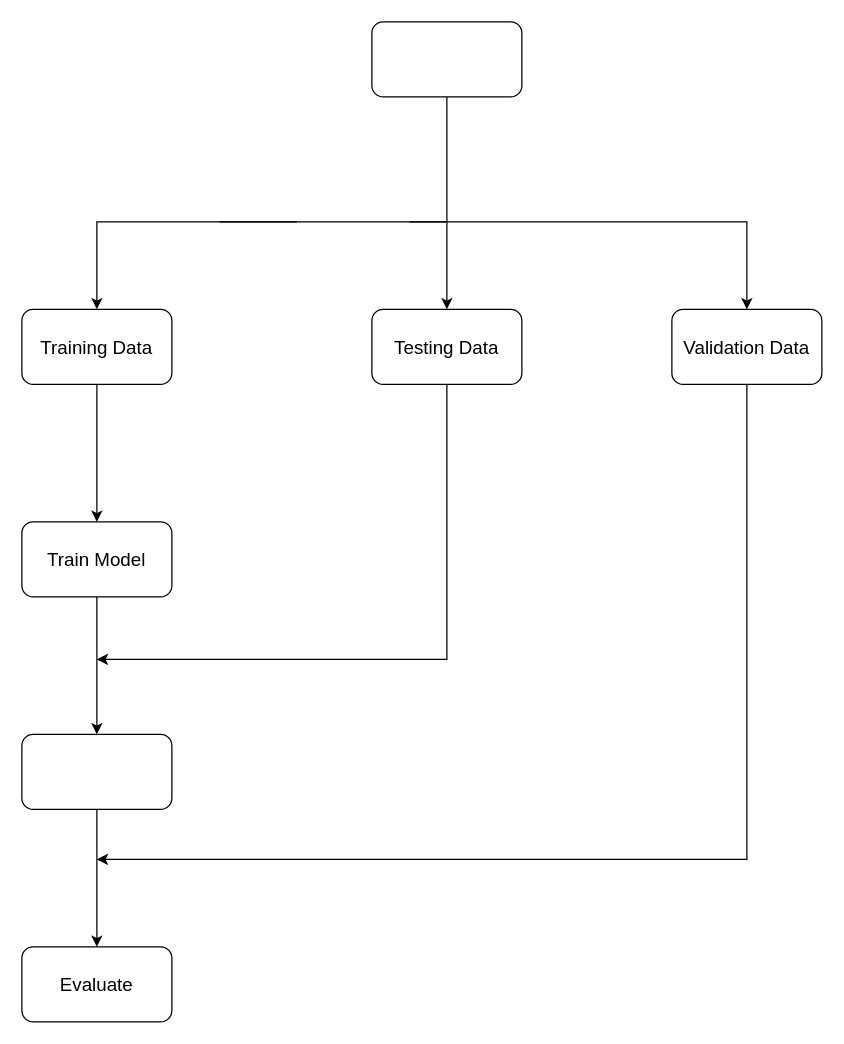
Image size: 844x1044. Some labels were removed from this diagram. Here are the shapes that lost their labels. From the top down, the centre of each, then its label:
At point 446,59: "Dataset".
At point 96,771: "Testing".
